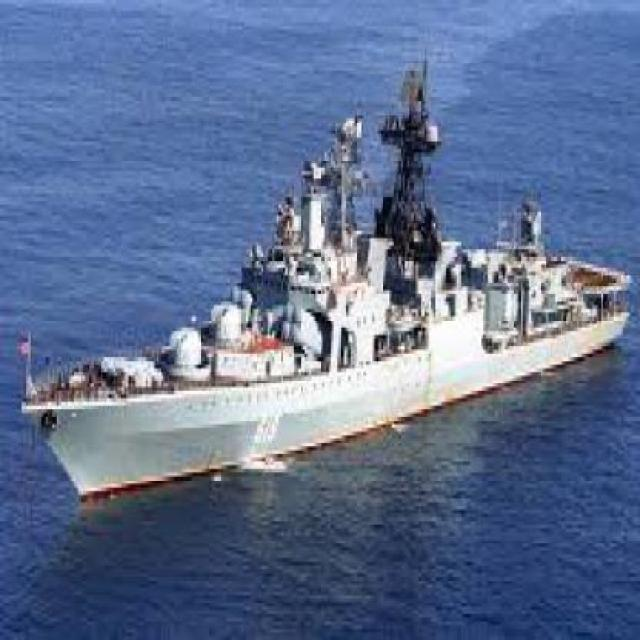warship2: (14, 64, 637, 536)
